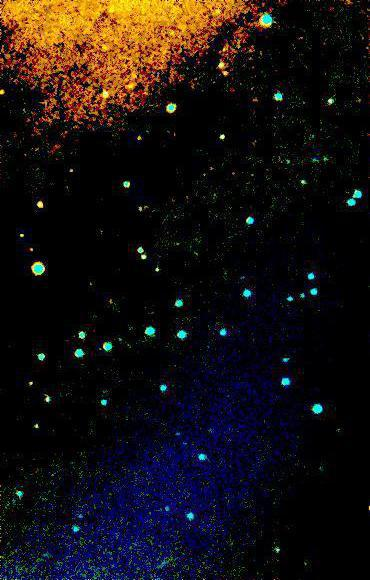star: (290, 547, 320, 577)
